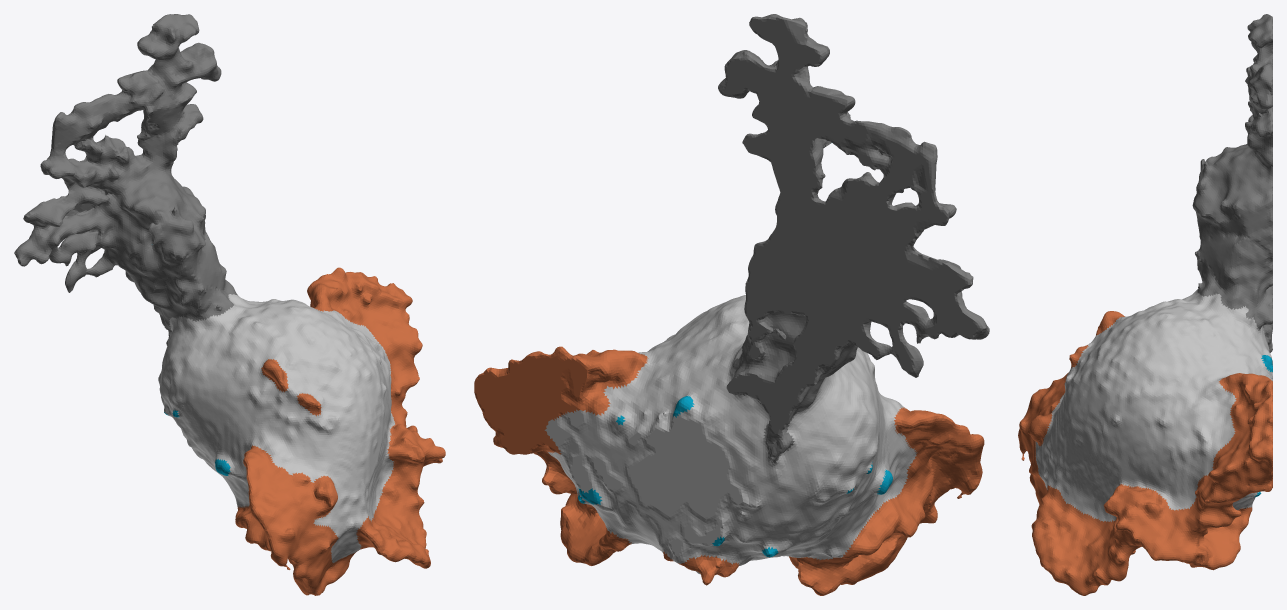
The picture shows the model from 3 angles, left to right: view 1: azimuth 30°, elevation 25°; view 2: azimuth 150°, elevation 25°; view 3: azimuth 270°, elevation 25°; orthographic projection. The views are drawn at different scales.
Bounding box in the file's own units: 166 × 211 × 96.78.
